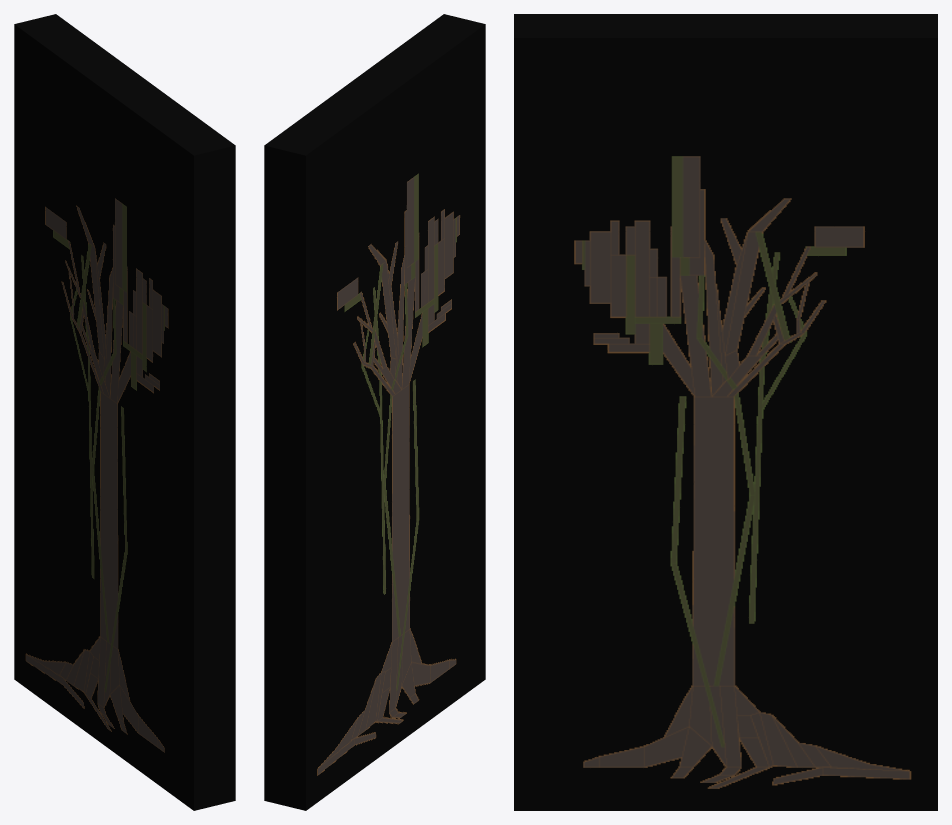
The model's file is Abstratc_tree.dae.
3 views of the same model, side by side, from view 1: azimuth 30°, elevation 25°; view 2: azimuth 150°, elevation 25°; view 3: azimuth 270°, elevation 25° (orthographic). The views are drawn at different scales.
Parts seen in each view (by area): view 1: pCube1; view 2: pCube1; view 3: pCube1.
Boxes of the visible parts, left/top/right/bottom form: pCube1: left=14, top=14, right=235, bottom=810; pCube1: left=264, top=14, right=485, bottom=810; pCube1: left=514, top=14, right=937, bottom=810.
Size of the model in its own units: 1 by 15 by 7.46.
Materials: 1 (1 with a texture image).
